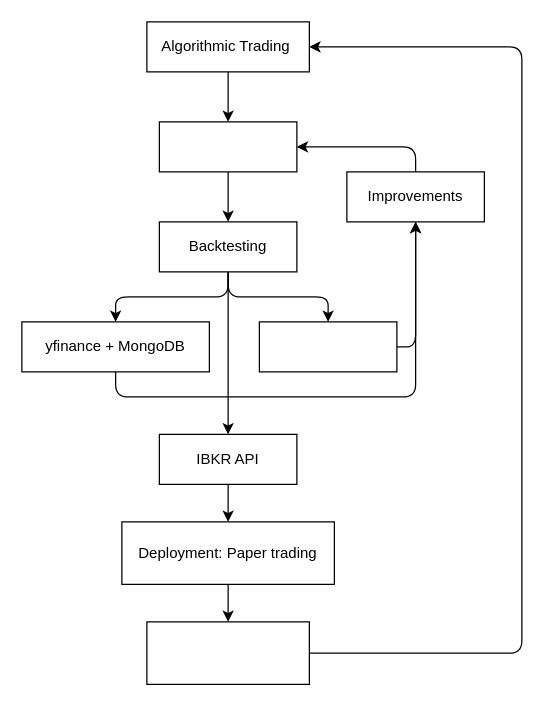
This 554x706 diagram has some shape labels left out. The shapes that lost their labels are listed below. From the top down, each one's box as (x1, y1, x2, y2) in pixels, then its label:
(158, 121, 297, 172): Algorithm
(258, 321, 397, 372): Lean CLI (OS)
(146, 621, 309, 684): Result eval
